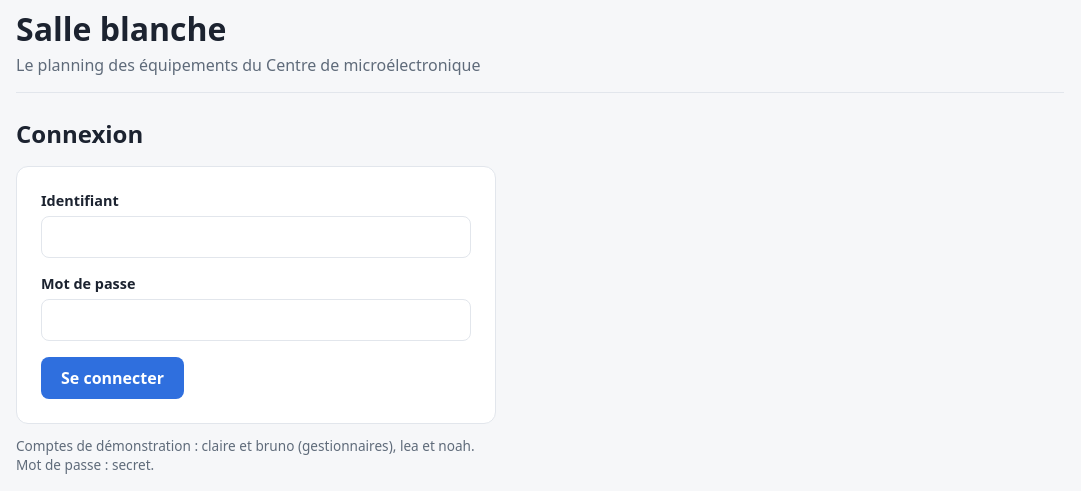
Scenario: Les pages protégées › ne renvoient pas un utilisateur vers la page d’un gestionnaire après sa connexion
Type "lea" into the field labelled "Identifiant". click: (256, 237)
box: [41,216,471,258]
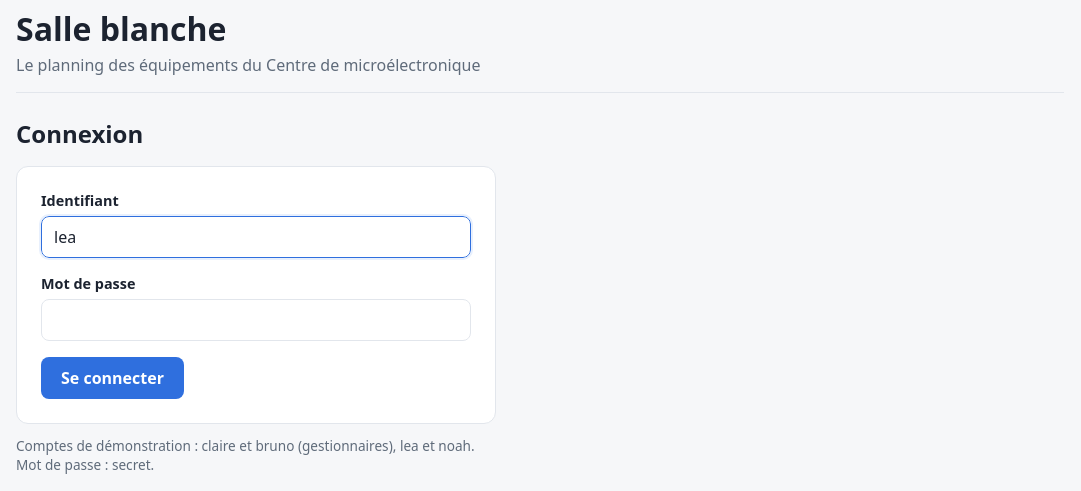
Type "secret" into the password field labelled "Mot de passe". click: (256, 320)
box: [41,299,471,341]
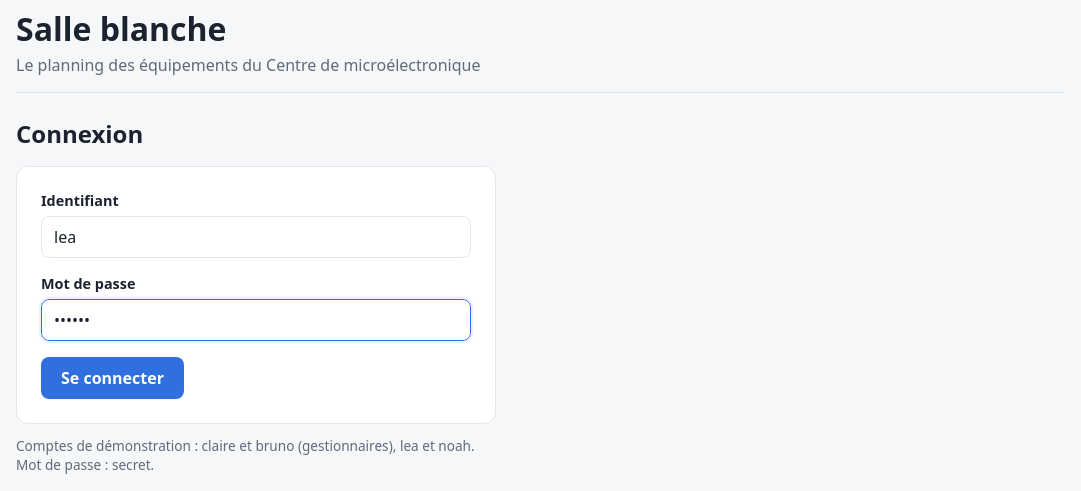
Click the button "Se connecter". click: click(112, 378)
box: [41,357,184,399]
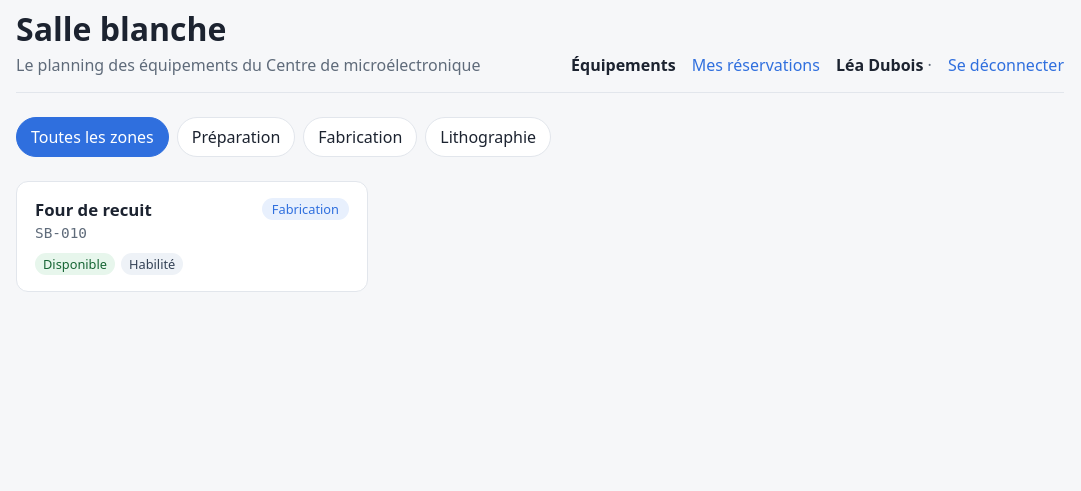
expect the element named "Filtrer par zone" is shown: met, box [16,117,551,157]
